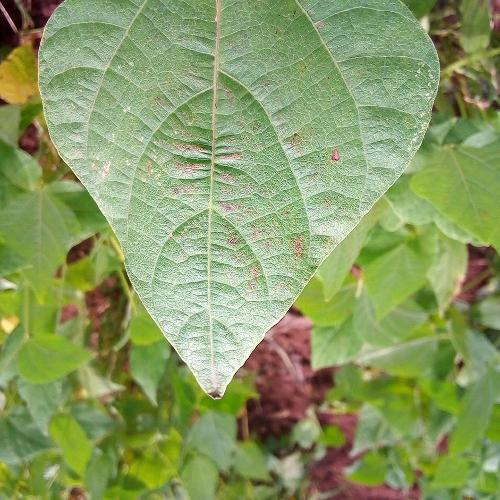sehat: (86, 0, 407, 307)
